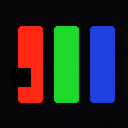1 square: (12, 68, 30, 86)
